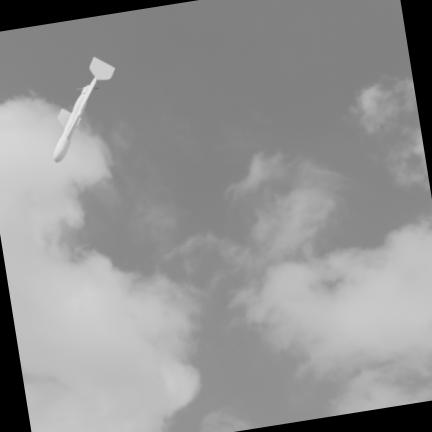Shahed: (54, 58, 114, 161)
